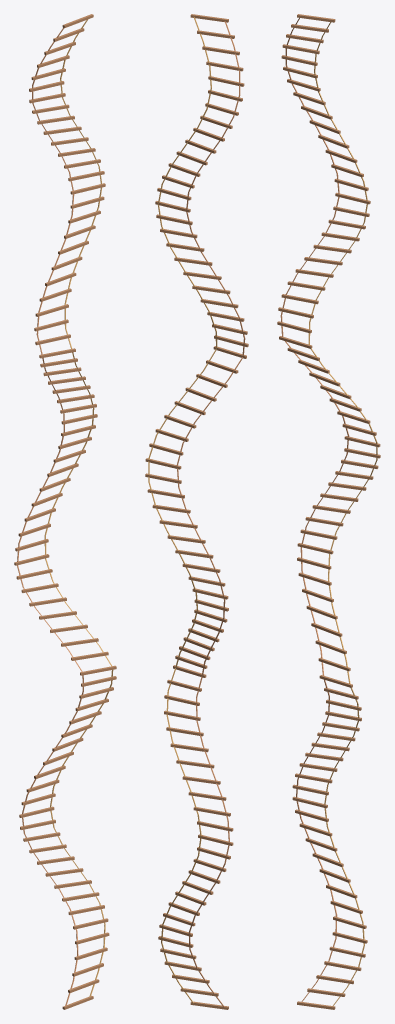
File: Spike_Frenzy.fbx
The picture shows the model from 3 angles, left to right: view 1: azimuth 30°, elevation 25°; view 2: azimuth 150°, elevation 25°; view 3: azimuth 330°, elevation 25°; orthographic projection.
Parts seen in each view (by area): view 1: Spike_Frenzy; view 2: Spike_Frenzy; view 3: Spike_Frenzy.
Part boxes in pixels (x1,y1,x2,y2): Spike_Frenzy: (14, 14, 116, 1009); Spike_Frenzy: (145, 14, 248, 1009); Spike_Frenzy: (277, 14, 380, 1009).
Bounding box in the file's own units: 5.16 × 60.15 × 3.59.
